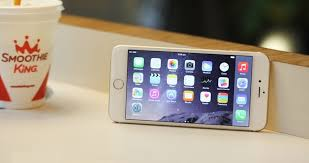iphone: (103, 42, 275, 133)
iphone6: (101, 40, 273, 131)
